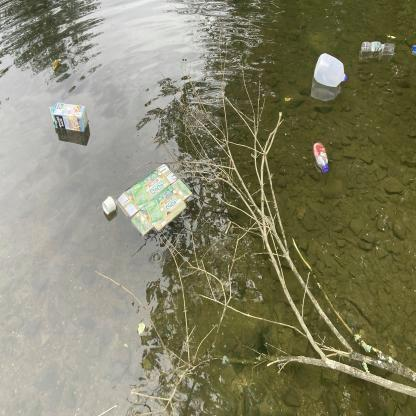Plastic: (310, 49, 351, 90), (310, 138, 331, 178), (358, 36, 388, 60)
Trash: (99, 196, 119, 219)
